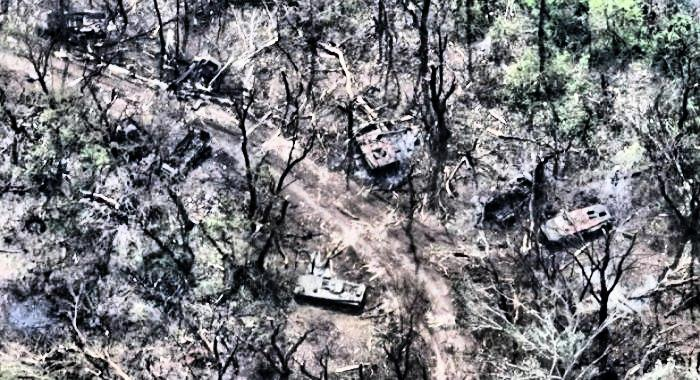military-vehicle: (540, 204, 613, 244), (294, 275, 368, 311), (349, 121, 400, 172)
